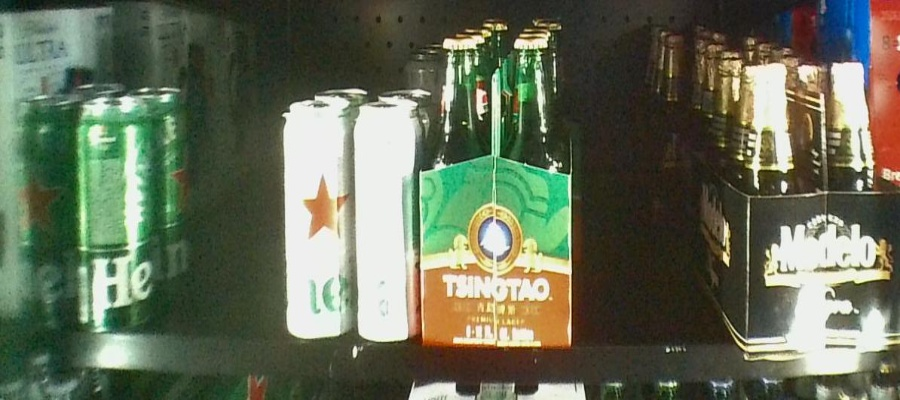bottle: (423, 32, 575, 352), (744, 58, 898, 353), (8, 95, 158, 333), (282, 95, 417, 342)
